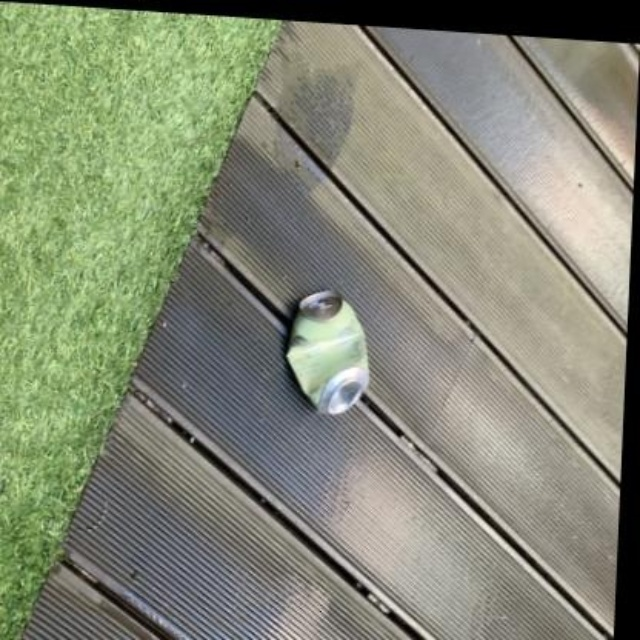trash: (286, 291, 368, 412)
